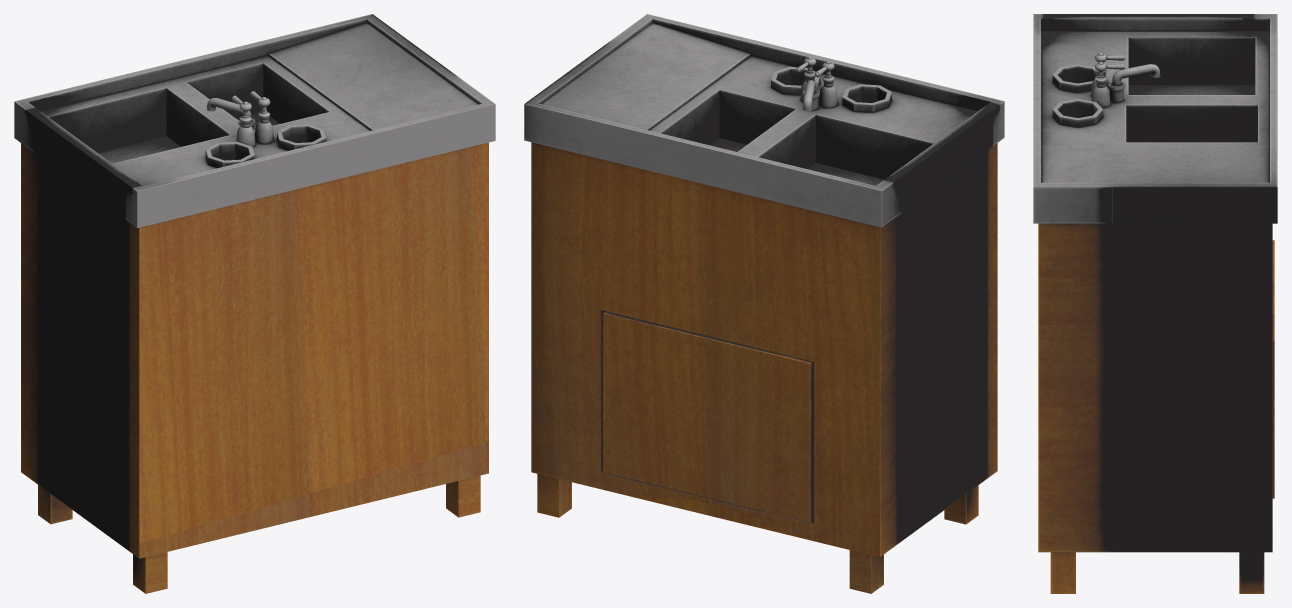
The model's file is SM_Sink.fbx.
3 views of the same model, side by side, from view 1: azimuth 30°, elevation 25°; view 2: azimuth 150°, elevation 25°; view 3: azimuth 270°, elevation 25° (orthographic).
Visible parts, largest first — view 1: SM_Sink; view 2: SM_Sink; view 3: SM_Sink.
Part boxes in pixels (box(x1,y1,x2,y2)): SM_Sink: box(14, 14, 495, 593); SM_Sink: box(524, 14, 1004, 593); SM_Sink: box(1033, 14, 1277, 593).
Size of the model in its own units: 96.65 by 57.57 by 114.
Materials: 1 (1 with a texture image).
